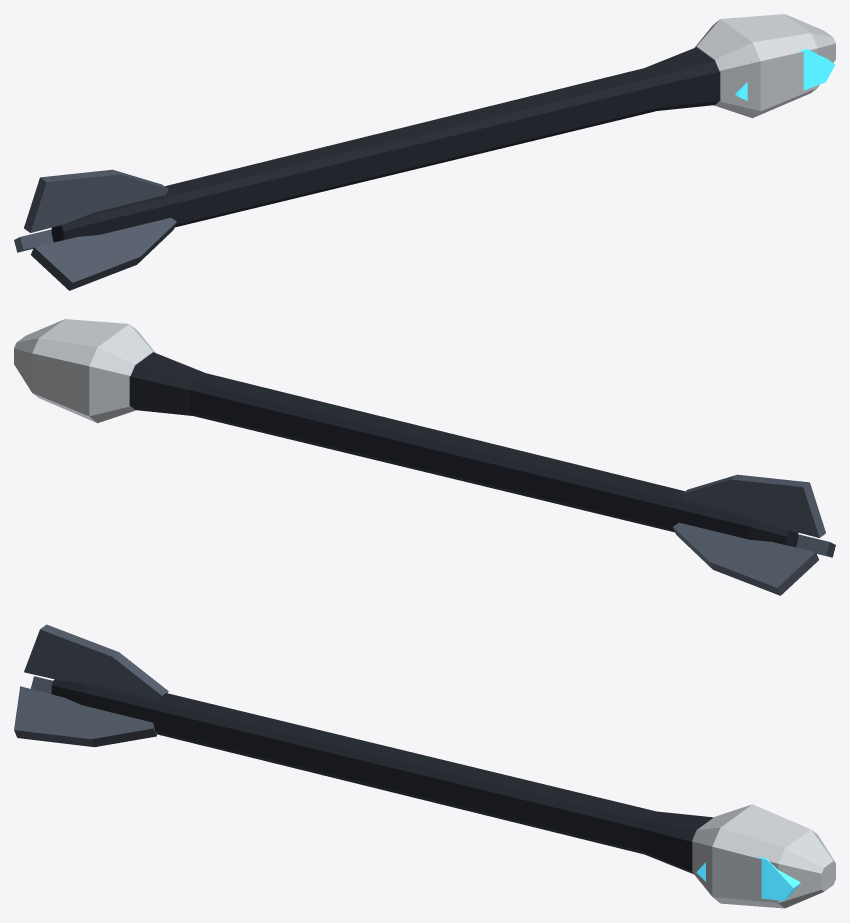
The model's file is ReconDart.fbx.
3 renders of one model, top to bottom at view 1: azimuth 30°, elevation 25°; view 2: azimuth 150°, elevation 25°; view 3: azimuth 330°, elevation 25°, orthographic.
Visible parts, largest first — view 1: Body.001, Tip, Fin2, Fin1, Light_Energy, Fin3; view 2: Body.001, Tip, Fin3, Fin1, Fin2; view 3: Body.001, Tip, Fin2, Fin1, Light_Energy.
Part boxes in pixels (x1,y1,x2,y2): Body.001: (51, 47, 720, 242); Tip: (694, 14, 835, 118); Fin2: (31, 217, 176, 290); Fin1: (24, 169, 168, 232); Light_Energy: (735, 48, 834, 100); Fin3: (14, 229, 53, 252); Body.001: (129, 352, 798, 547); Tip: (14, 319, 155, 423); Fin3: (673, 522, 818, 595); Fin1: (681, 474, 825, 537); Fin2: (796, 534, 835, 557); Body.001: (51, 679, 713, 874); Tip: (692, 804, 835, 908); Fin2: (14, 686, 156, 747); Fin1: (24, 624, 168, 699); Light_Energy: (696, 856, 800, 900).
Size of the model in its own units: 0.84 by 0.096 by 0.1065.
